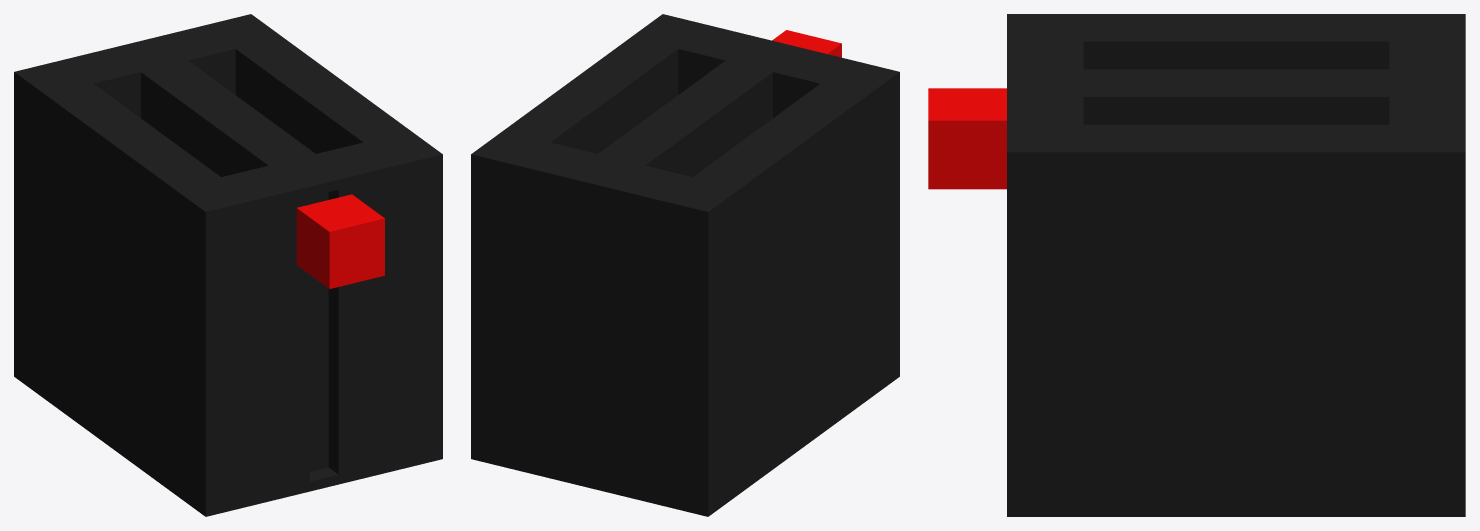
Rendered from Toaster.FBX.
3 views of the same model, side by side, from view 1: azimuth 30°, elevation 25°; view 2: azimuth 150°, elevation 25°; view 3: azimuth 270°, elevation 25° (orthographic). The views are drawn at different scales.
Visible parts, largest first — view 1: Box001, Box003; view 2: Box001, Box003; view 3: Box001, Box003.
Part boxes in pixels (x1,y1,x2,y2): Box001: (14,14,442,516); Box003: (296,194,384,288); Box001: (471,14,899,516); Box003: (772,30,841,57); Box001: (1007,14,1465,516); Box003: (928,88,1006,189).
Bounding box in the file's own units: 3.5 × 4.3 × 5.74.
